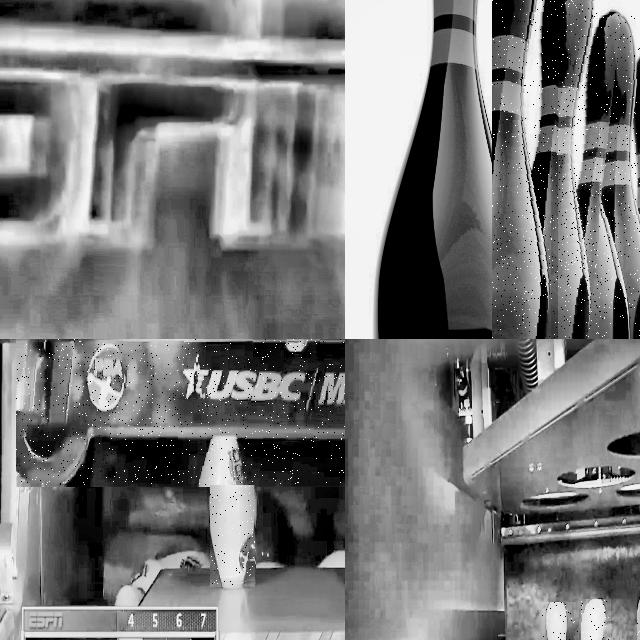bowling-pins: (374, 0, 522, 339), (493, 0, 556, 339), (554, 0, 599, 339), (600, 15, 640, 339), (211, 435, 255, 585)
sweep board: (16, 339, 345, 485)
